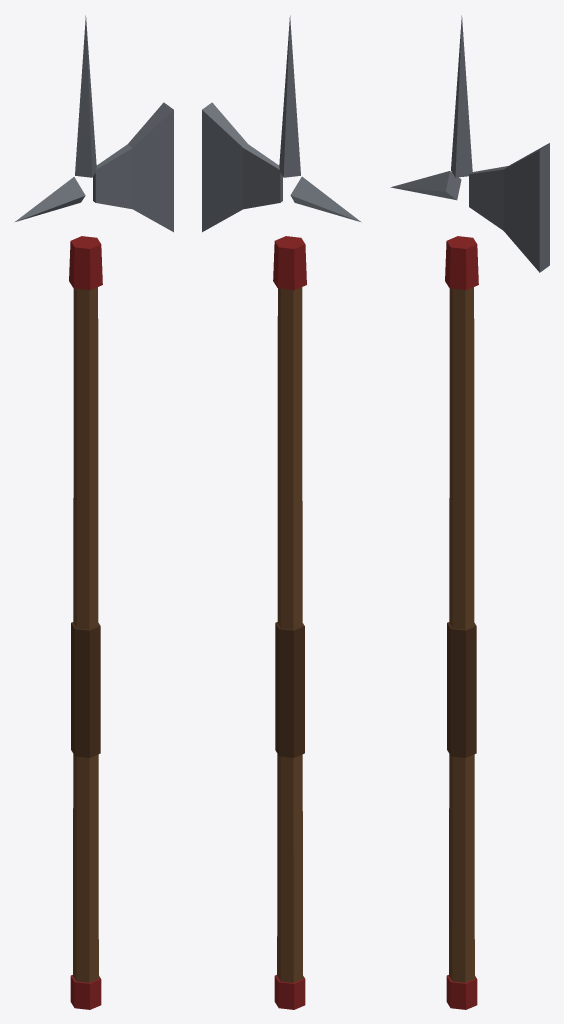
The model's file is weapon_naginata.glb.
3 renders of one model, left to right at view 1: azimuth 30°, elevation 25°; view 2: azimuth 150°, elevation 25°; view 3: azimuth 330°, elevation 25°, orthographic.
Parts seen in each view (by area): view 1: human_weapon_naginata; view 2: human_weapon_naginata; view 3: human_weapon_naginata.
Part boxes in pixels (x1,y1,x2,y2): human_weapon_naginata: [14, 15, 173, 1009]; human_weapon_naginata: [202, 15, 361, 1009]; human_weapon_naginata: [390, 15, 549, 1009].
Bounding box in the file's own units: 0.336 × 2.05 × 0.0638.
